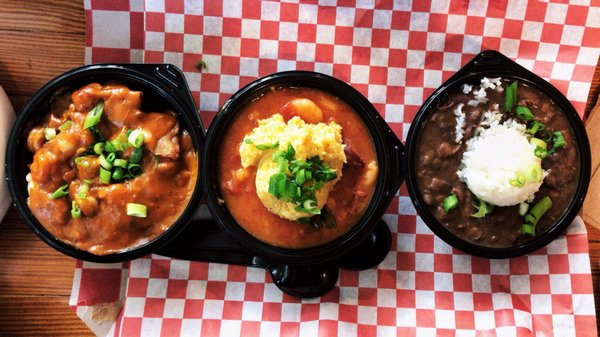sushi: (4, 62, 205, 262), (201, 72, 407, 266), (403, 49, 592, 258)
